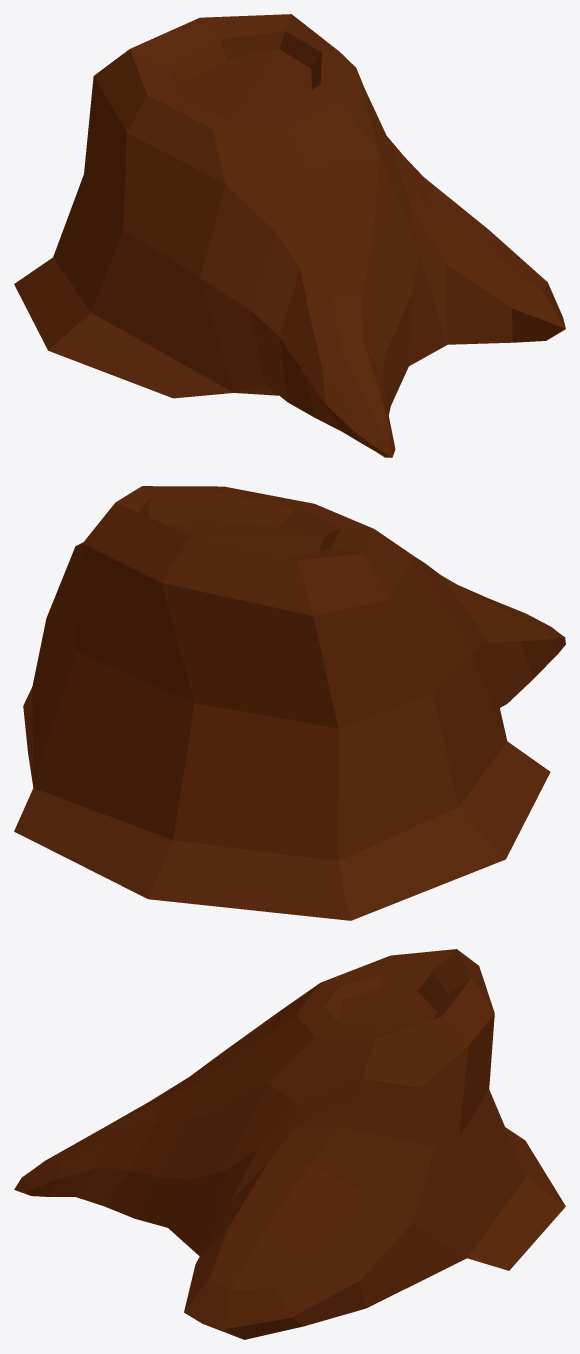
The model's file is log_3.gltf.
3 renders of one model, top to bottom at view 1: azimuth 30°, elevation 25°; view 2: azimuth 150°, elevation 25°; view 3: azimuth 270°, elevation 25°, orthographic. The views are drawn at different scales.
Parts seen in each view (by area): view 1: Log_3; view 2: Log_3; view 3: Log_3.
Part boxes in pixels (x1,y1,x2,y2): Log_3: (14,14,565,457); Log_3: (14,486,565,920); Log_3: (14,949,565,1339).
Size of the model in its own units: 171 by 105 by 201.
